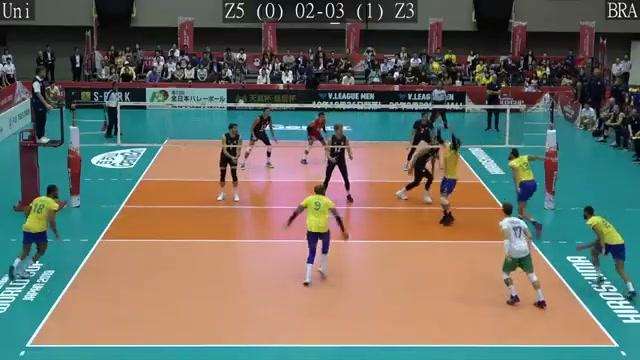ball: (428, 61, 443, 74)
